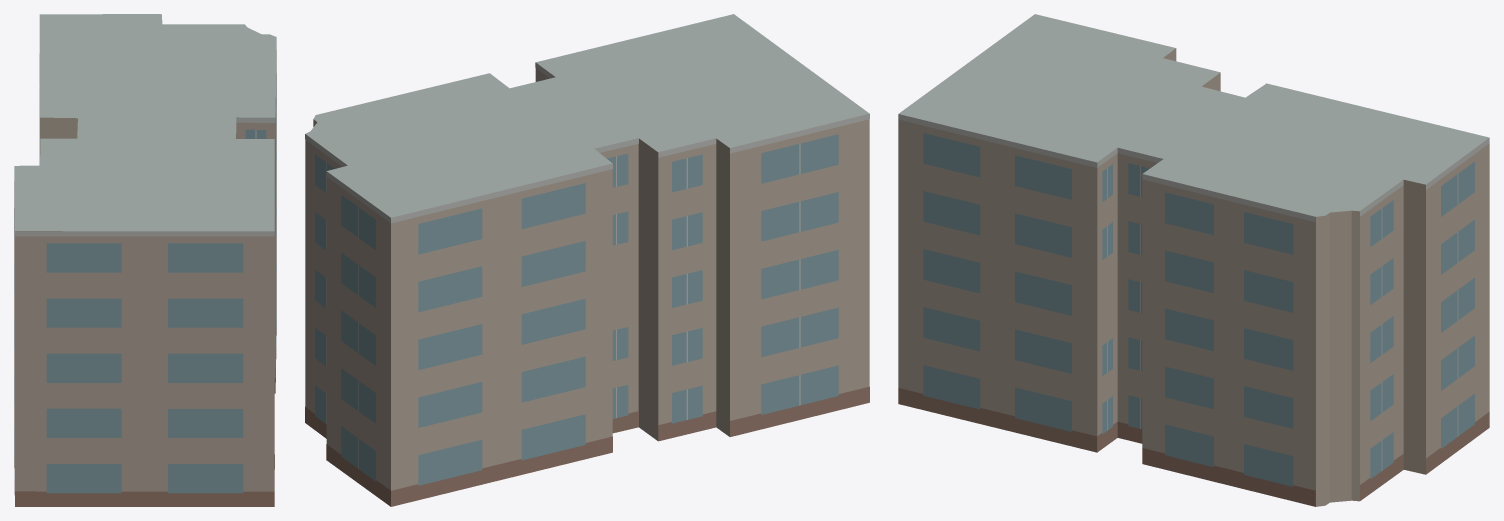
Rendered from survey-upis-32677602.glb.
3 renders of one model, left to right at view 1: azimuth 30°, elevation 25°; view 2: azimuth 150°, elevation 25°; view 3: azimuth 270°, elevation 25°, orthographic. The views are drawn at different scales.
Parts seen in each view (by area): view 1: survey-upis-32677602.tmp; view 2: survey-upis-32677602.tmp; view 3: survey-upis-32677602.tmp.
Boxes of the visible parts, x1,y1,x2,y2 form: survey-upis-32677602.tmp: (14,14,276,506); survey-upis-32677602.tmp: (305,14,869,506); survey-upis-32677602.tmp: (898,14,1489,506).
Size of the model in its own units: 19.2 by 12.8 by 23.66.
